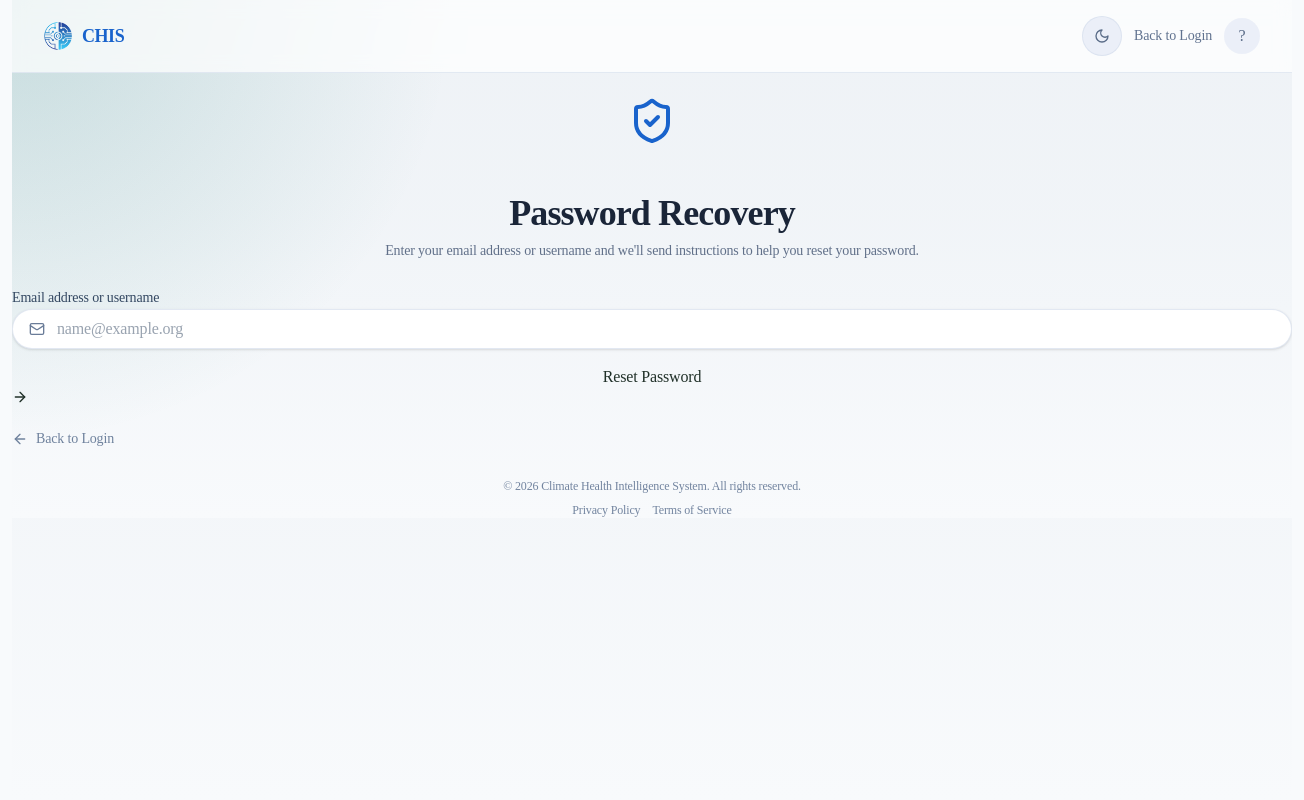
Scenario: ForgotPasswordPage › shows the backend success message after a successful request
Type "analyst@example.com" into the field labelled "Email address or username" at x=157, y=329, box x1=57 y1=317 x2=257 y2=341
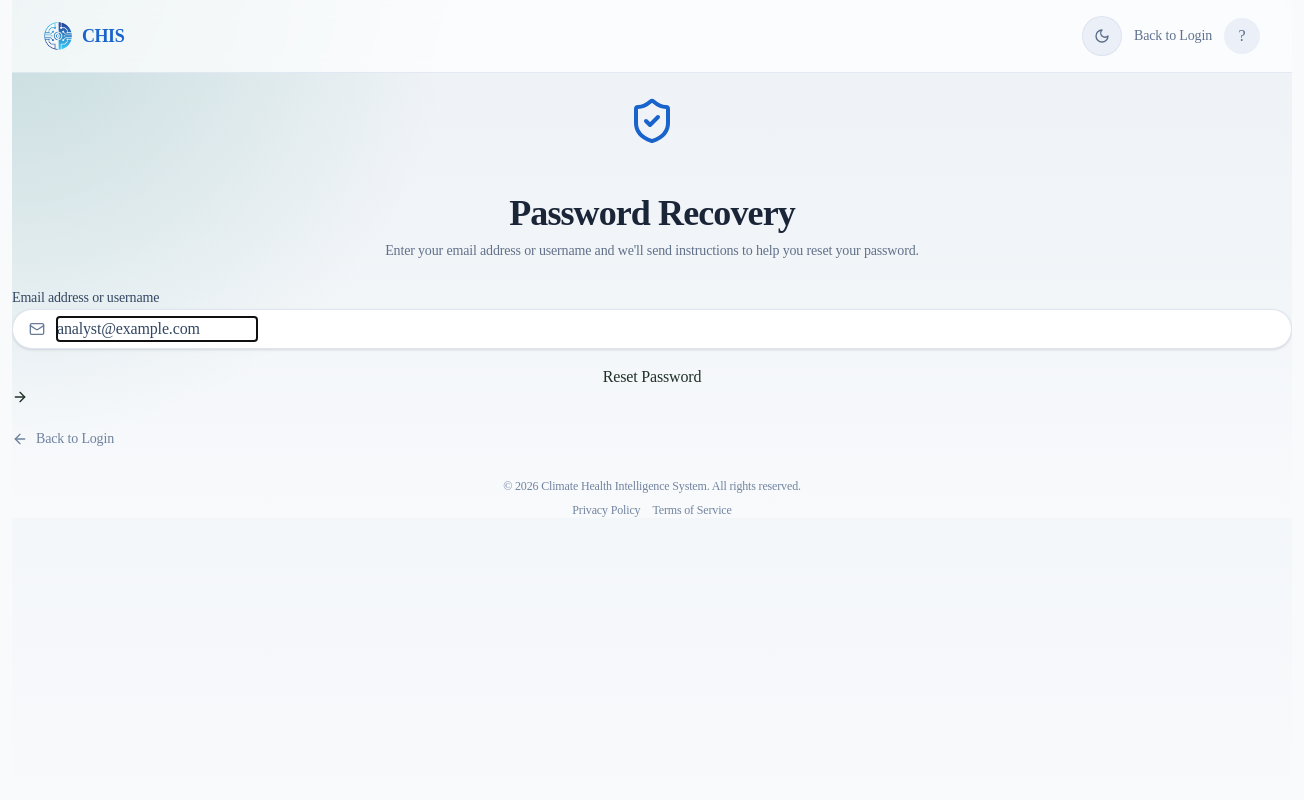
Click the button "Reset Password" at x=652, y=385, box x1=12 y1=365 x2=1292 y2=405
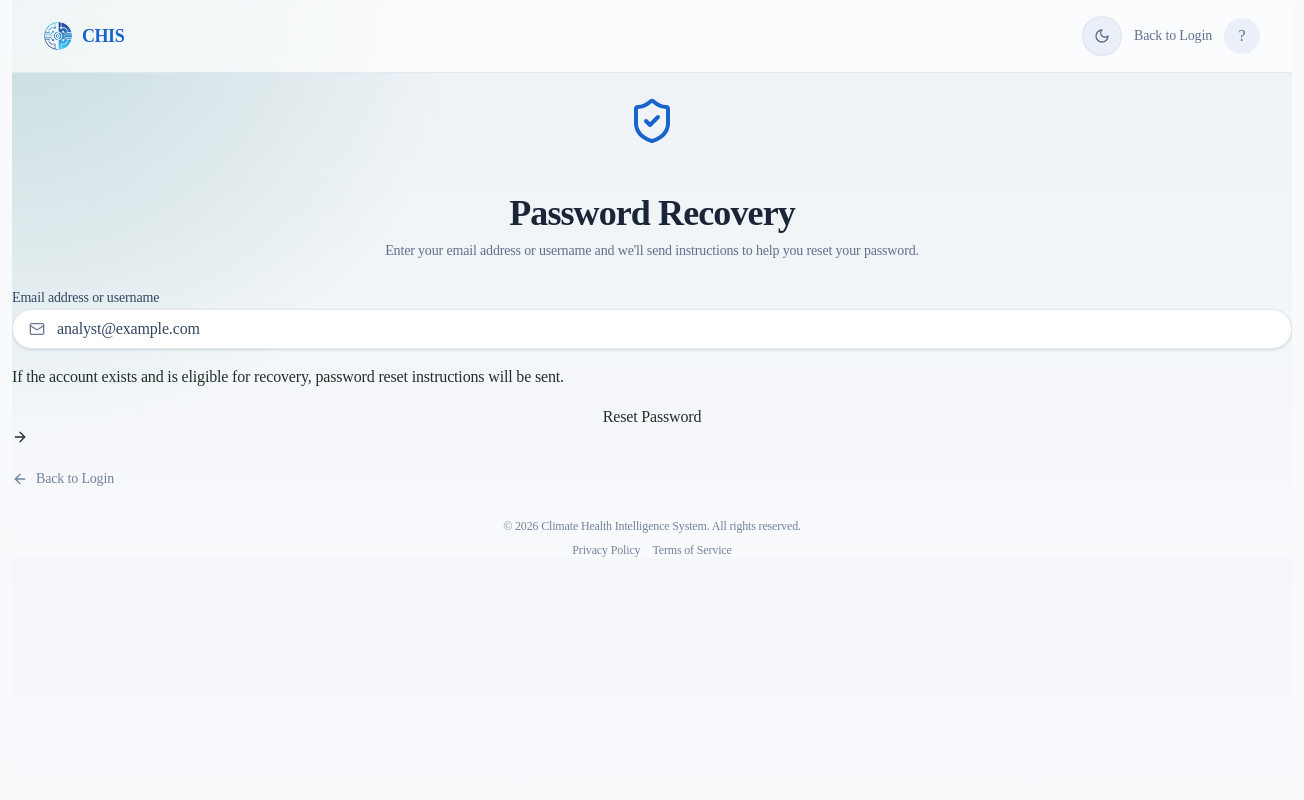
Result: the text "If the account exists and is eligible for recovery, password reset instructions will be sent." is shown at x1=12 y1=368 x2=564 y2=385
